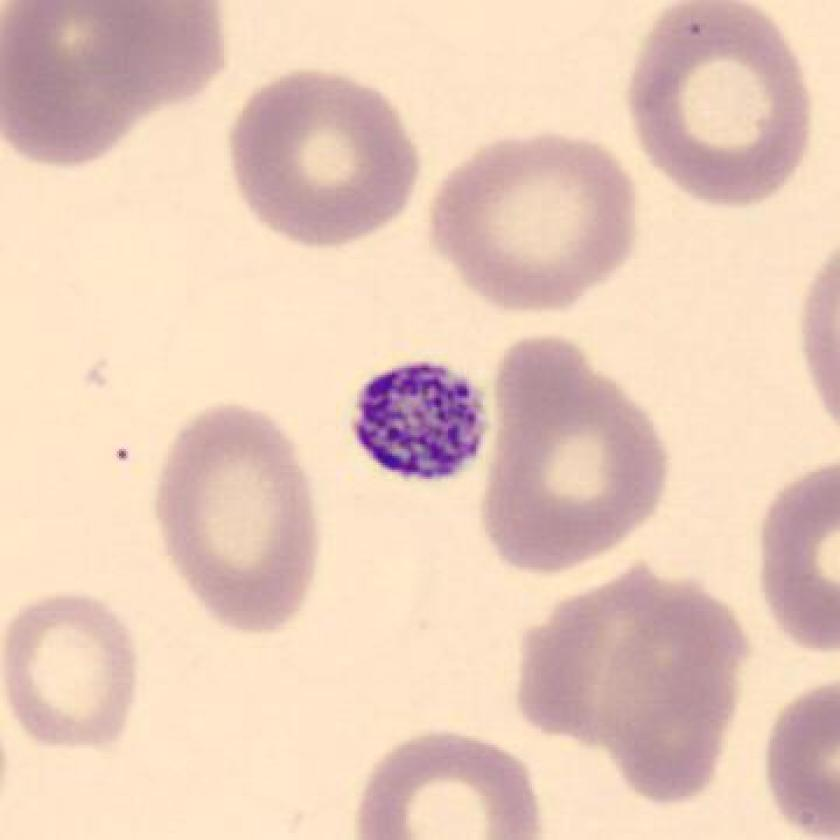platelets: (344, 348, 498, 496)
